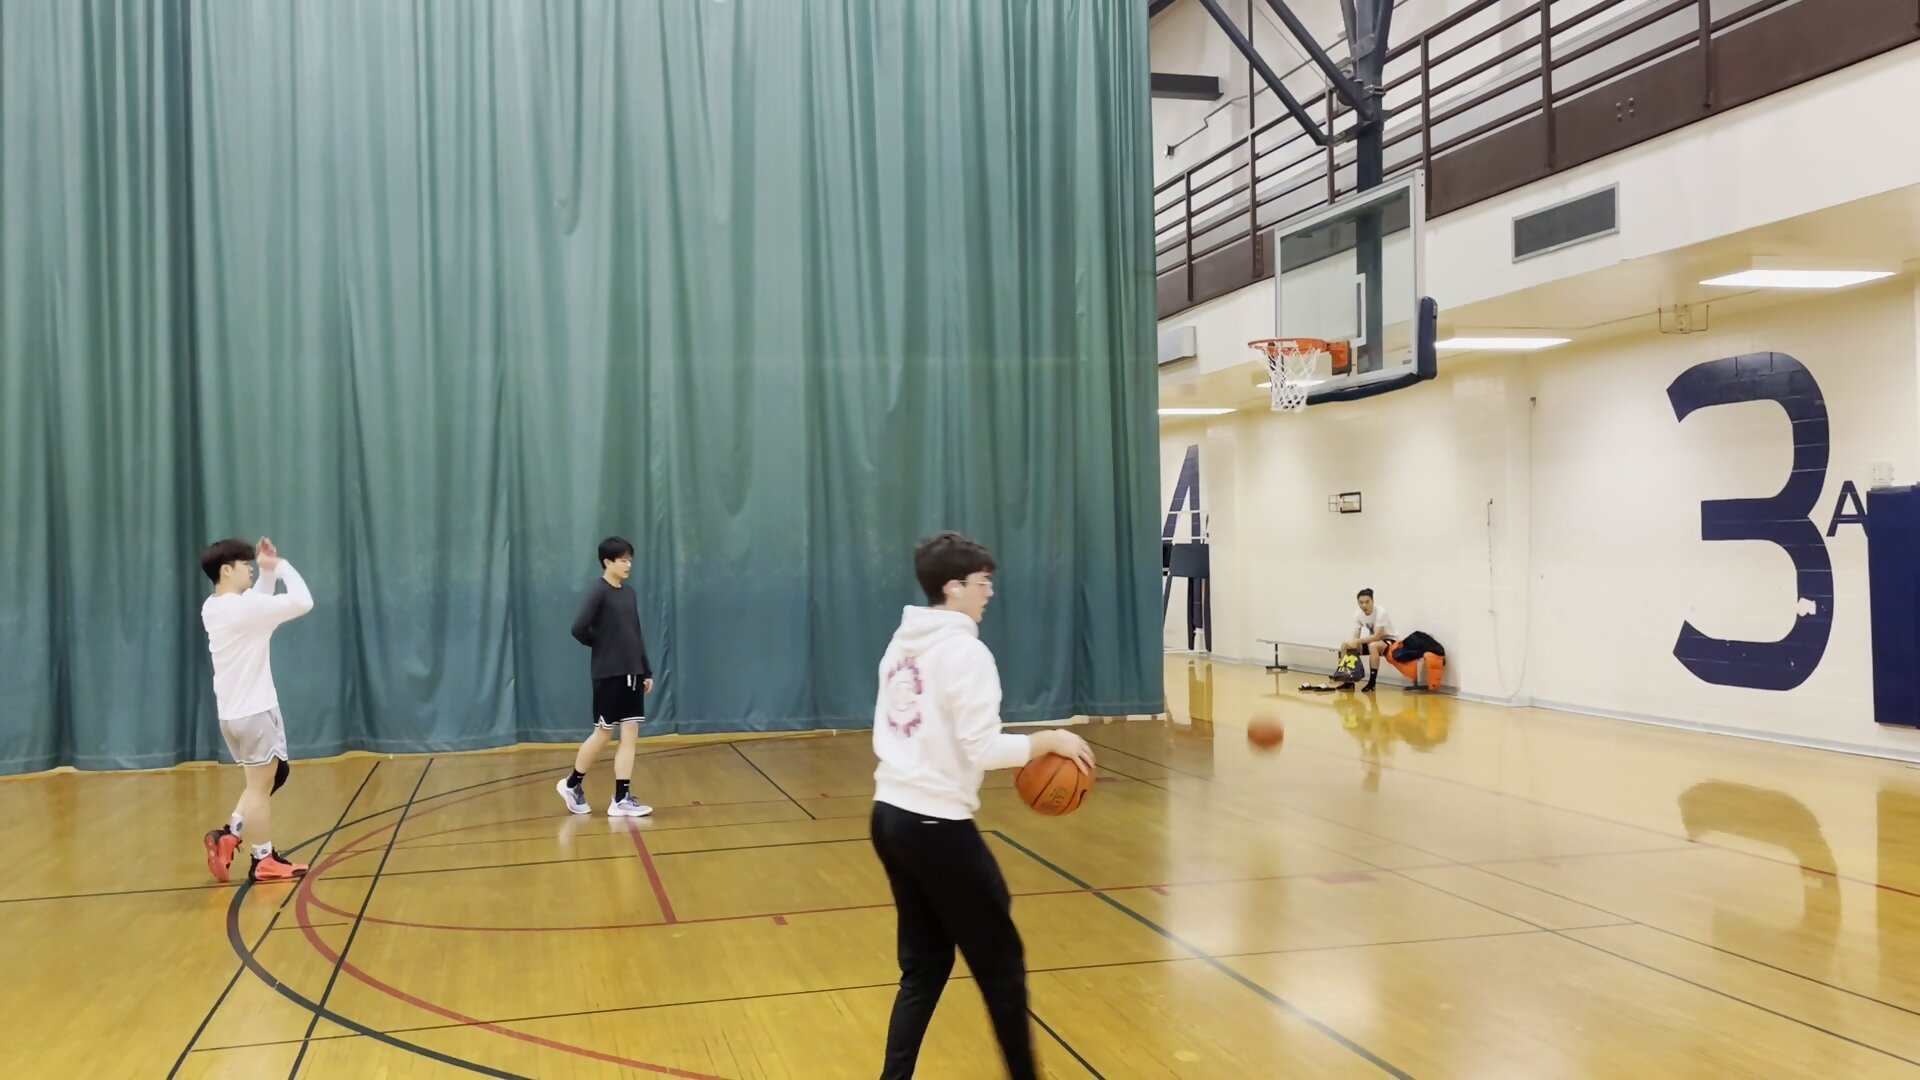ball: (1019, 727, 1101, 820), (1244, 712, 1303, 758)
net: (1260, 378, 1320, 415)
player: (865, 531, 1048, 1080), (182, 530, 319, 888), (560, 532, 660, 825), (1348, 576, 1398, 696)
rim: (1245, 332, 1329, 357)
